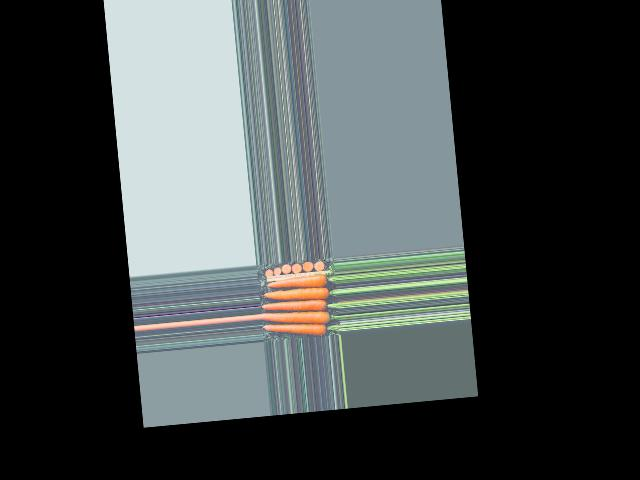carrot: (263, 270, 332, 291)
